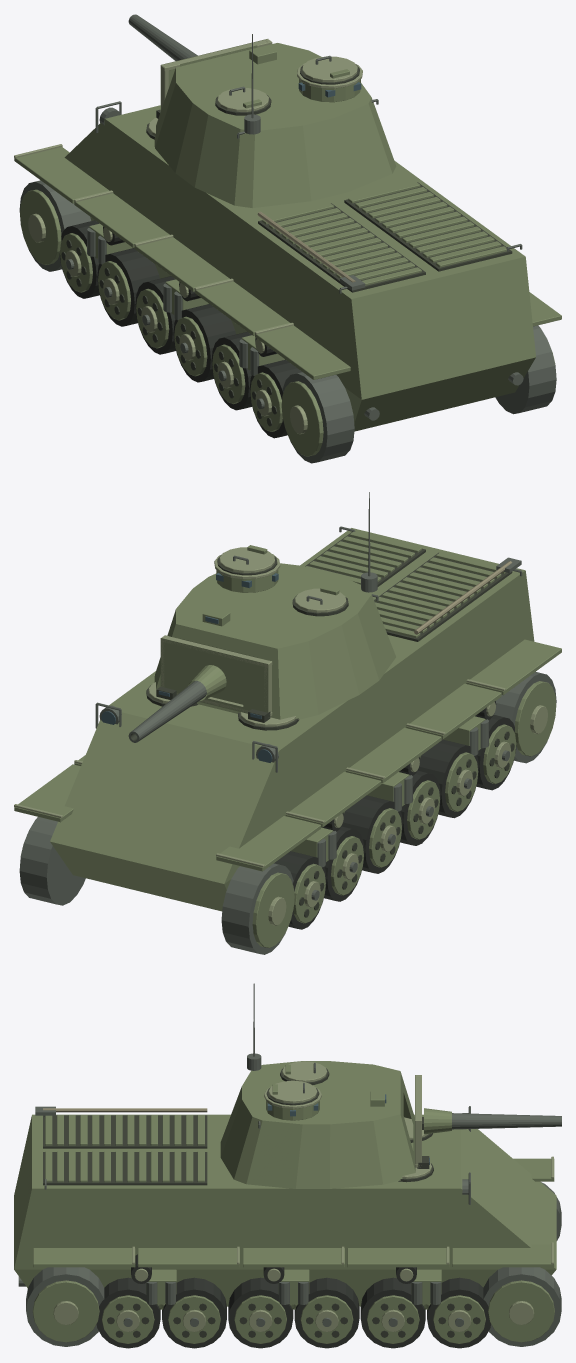
Rendered from us_m4a3_75w_vvss_1944.glb.
The picture shows the model from 3 angles, top to bottom: view 1: azimuth 30°, elevation 25°; view 2: azimuth 150°, elevation 25°; view 3: azimuth 270°, elevation 25°; orthographic projection. The views are drawn at different scales.
Parts seen in each view (by area): view 1: Cosmetic_hull_Olive, Armor_hull_1_6, Cosmetic_hull_Steel, Armor_hull_1_5, Armor_hull_1_4, Armor_turret_roof, Armor_hull_1_7, Cosmetic_hull_Rubber, Cosmetic_hull_Dark, Armor_turret_wall_8, Cosmetic_hull_Edge, Armor_turret_wall_6 (+17 smaller); view 2: Cosmetic_hull_Olive, Armor_hull_1_0, Armor_hull_1_1, Cosmetic_hull_Steel, Armor_hull_1_6, Armor_turret_roof, Armor_hull_1_7, Cosmetic_hull_Rubber, Cosmetic_hull_Dark, Cosmetic_hull_Edge, Cosmetic_turret_Edge, Armor_turret_wall_12 (+20 smaller); view 3: Cosmetic_hull_Olive, Armor_hull_1_3, Armor_hull_1_2, Cosmetic_hull_Rubber, Cosmetic_hull_Dark, Cosmetic_hull_Steel, Armor_turret_roof, Cosmetic_hull_Edge, Armor_hull_1_0, Armor_hull_1_1, Armor_turret_wall_2, Armor_turret_wall_4 (+20 smaller).
Part boxes in pixels (x1,y1,x2,y2): Cosmetic_hull_Olive: (14, 147, 561, 456); Armor_hull_1_6: (201, 190, 361, 399); Cosmetic_hull_Steel: (19, 101, 556, 463); Armor_hull_1_5: (351, 278, 448, 399); Armor_hull_1_4: (438, 256, 535, 378); Armor_turret_roof: (176, 43, 371, 130); Armor_hull_1_7: (64, 119, 200, 256); Cosmetic_hull_Rubber: (59, 220, 301, 438); Cosmetic_hull_Dark: (61, 109, 512, 426); Armor_turret_wall_8: (252, 125, 311, 207); Cosmetic_hull_Edge: (14, 117, 307, 434); Armor_turret_wall_6: (333, 103, 392, 191); Cosmetic_hull_Olive: (14, 531, 561, 947); Armor_hull_1_0: (137, 729, 278, 883); Armor_hull_1_1: (50, 712, 191, 862); Cosmetic_hull_Steel: (19, 526, 556, 954); Armor_hull_1_6: (375, 570, 534, 748); Armor_turret_roof: (176, 563, 371, 648); Armor_hull_1_7: (224, 684, 375, 883); Cosmetic_hull_Rubber: (274, 701, 516, 929); Cosmetic_hull_Dark: (146, 531, 514, 917); Cosmetic_hull_Edge: (14, 679, 547, 925); Cosmetic_turret_Edge: (161, 547, 346, 716); Armor_turret_wall_12: (308, 625, 359, 714); Cosmetic_hull_Olive: (32, 1115, 554, 1343); Armor_hull_1_3: (14, 1188, 293, 1269); Armor_hull_1_2: (294, 1188, 555, 1269); Cosmetic_hull_Rubber: (96, 1254, 490, 1348); Cosmetic_hull_Dark: (43, 1115, 480, 1337); Cosmetic_hull_Steel: (18, 1106, 561, 1346); Armor_turret_roof: (242, 1061, 400, 1124); Cosmetic_hull_Edge: (53, 1117, 553, 1331); Armor_hull_1_0: (461, 1129, 556, 1232); Armor_hull_1_1: (461, 1152, 556, 1269); Armor_turret_wall_2: (330, 1121, 383, 1188); Armor_turret_wall_4: (246, 1120, 302, 1188).
Size of the model in its own units: 2.78 by 3.56 by 6.07.
